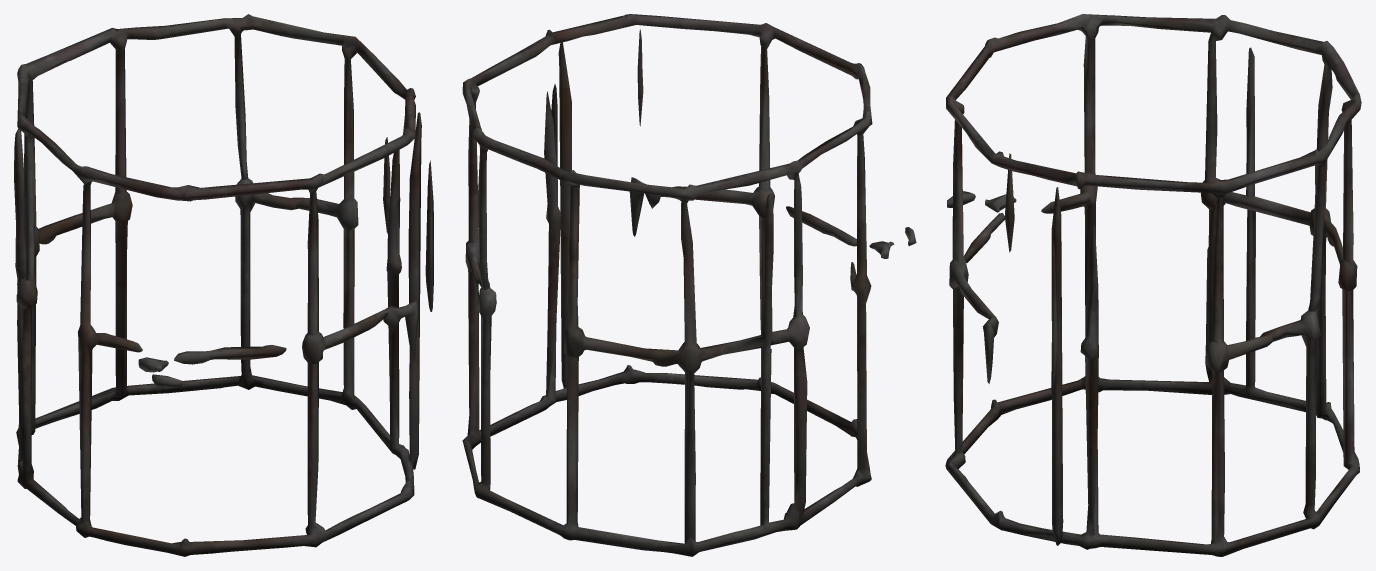
The model's file is chipped-iron-portcullis-v001.glb.
3 renders of one model, left to right at view 1: azimuth 30°, elevation 25°; view 2: azimuth 150°, elevation 25°; view 3: azimuth 270°, elevation 25°, orthographic.
Visible parts, largest first — view 1: chipped-iron-portcullis; view 2: chipped-iron-portcullis; view 3: chipped-iron-portcullis.
Boxes of the visible parts, bbox=[...] form: chipped-iron-portcullis: bbox=[14, 14, 433, 556]; chipped-iron-portcullis: bbox=[462, 14, 916, 556]; chipped-iron-portcullis: bbox=[945, 14, 1361, 556].
Bounding box in the file's own units: 2.37 × 2.45 × 2.43.
1 material, 1 textured.
